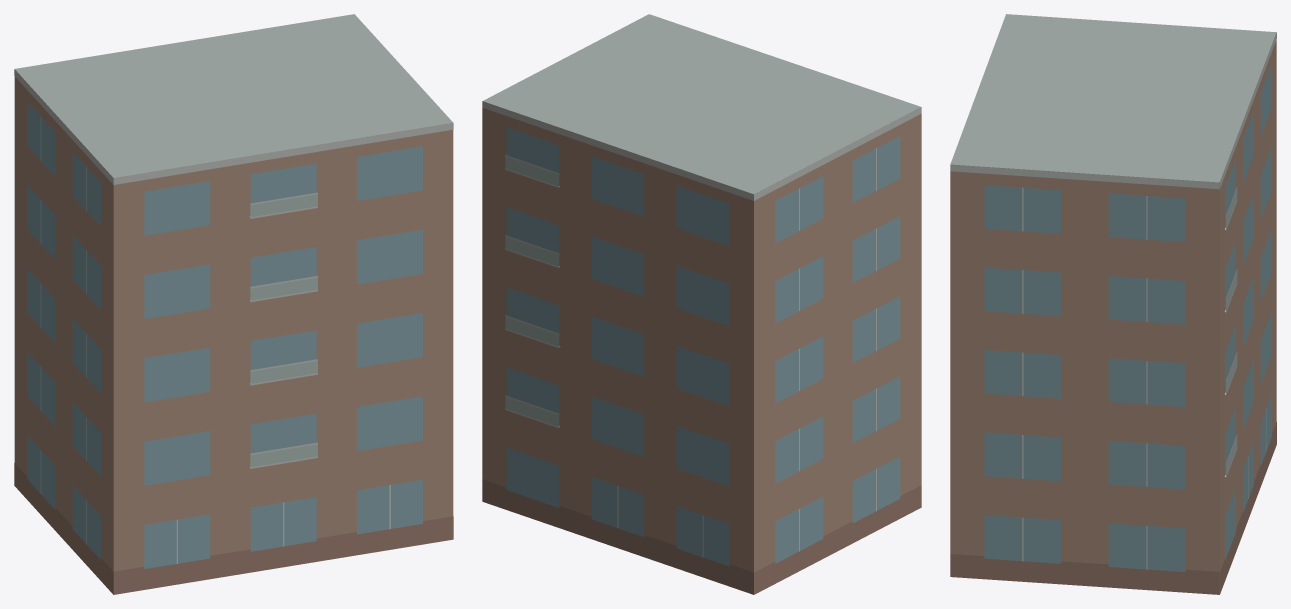
File: survey-upis-32641785.glb
3 renders of one model, left to right at view 1: azimuth 30°, elevation 25°; view 2: azimuth 150°, elevation 25°; view 3: azimuth 270°, elevation 25°, orthographic. The views are drawn at different scales.
Visible parts, largest first — view 1: survey-upis-32641785.tmp; view 2: survey-upis-32641785.tmp; view 3: survey-upis-32641785.tmp.
Part boxes in pixels (x1=…): survey-upis-32641785.tmp: x1=14, y1=14, x2=453, y2=594; survey-upis-32641785.tmp: x1=482, y1=14, x2=921, y2=594; survey-upis-32641785.tmp: x1=950, y1=14, x2=1276, y2=594.
Size of the model in its own units: 12.93 by 14.75 by 10.59.
